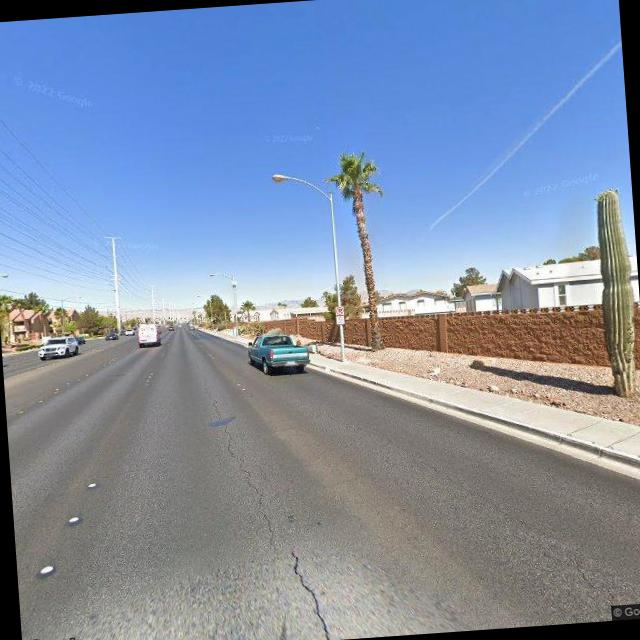pothole: (218, 417, 345, 640)
